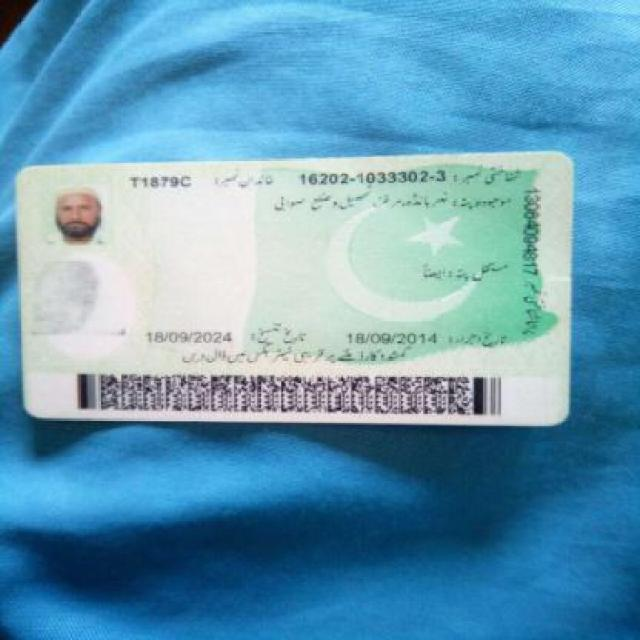Back: (11, 157, 575, 431)
